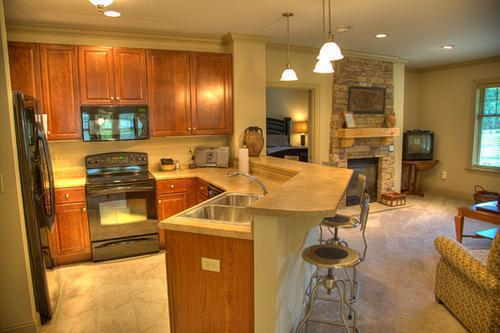Lavaplatos: (178, 164, 270, 235)
